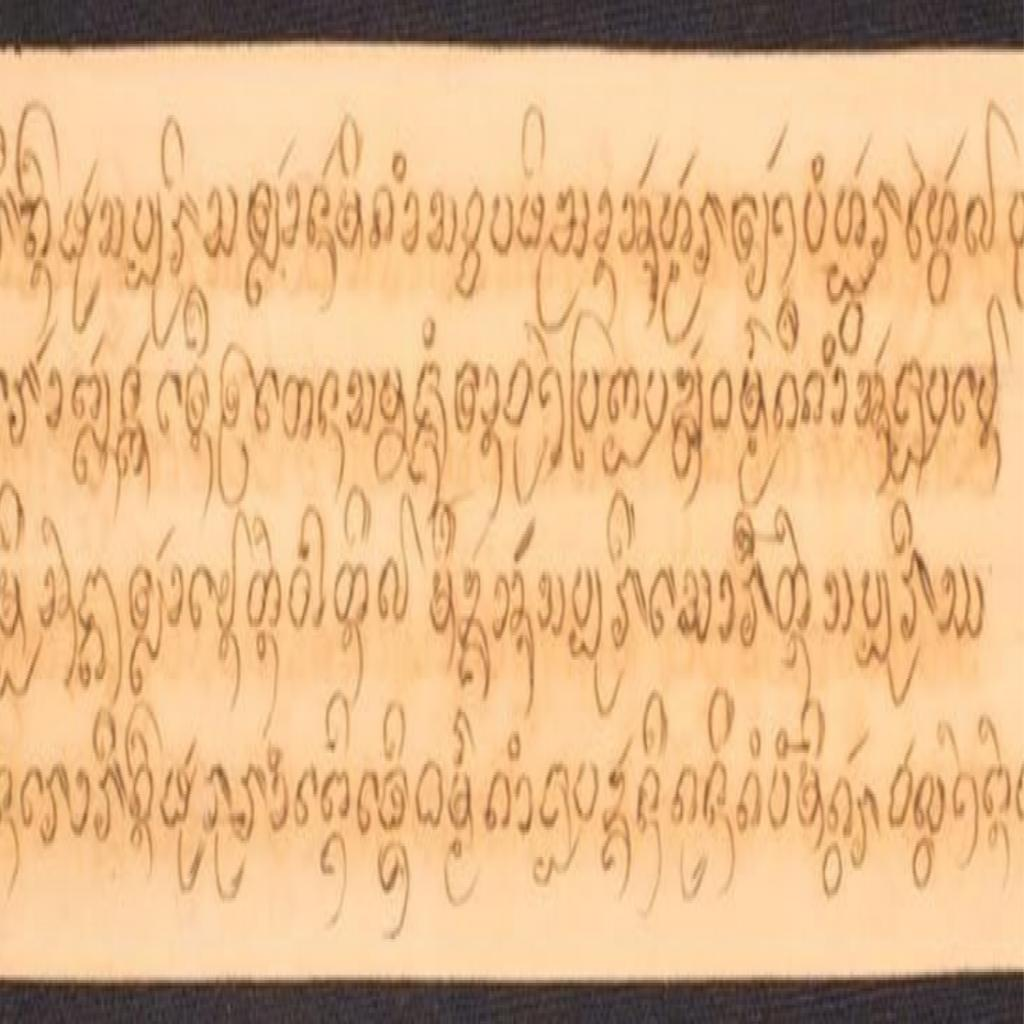LN003: (483, 765, 515, 843)
